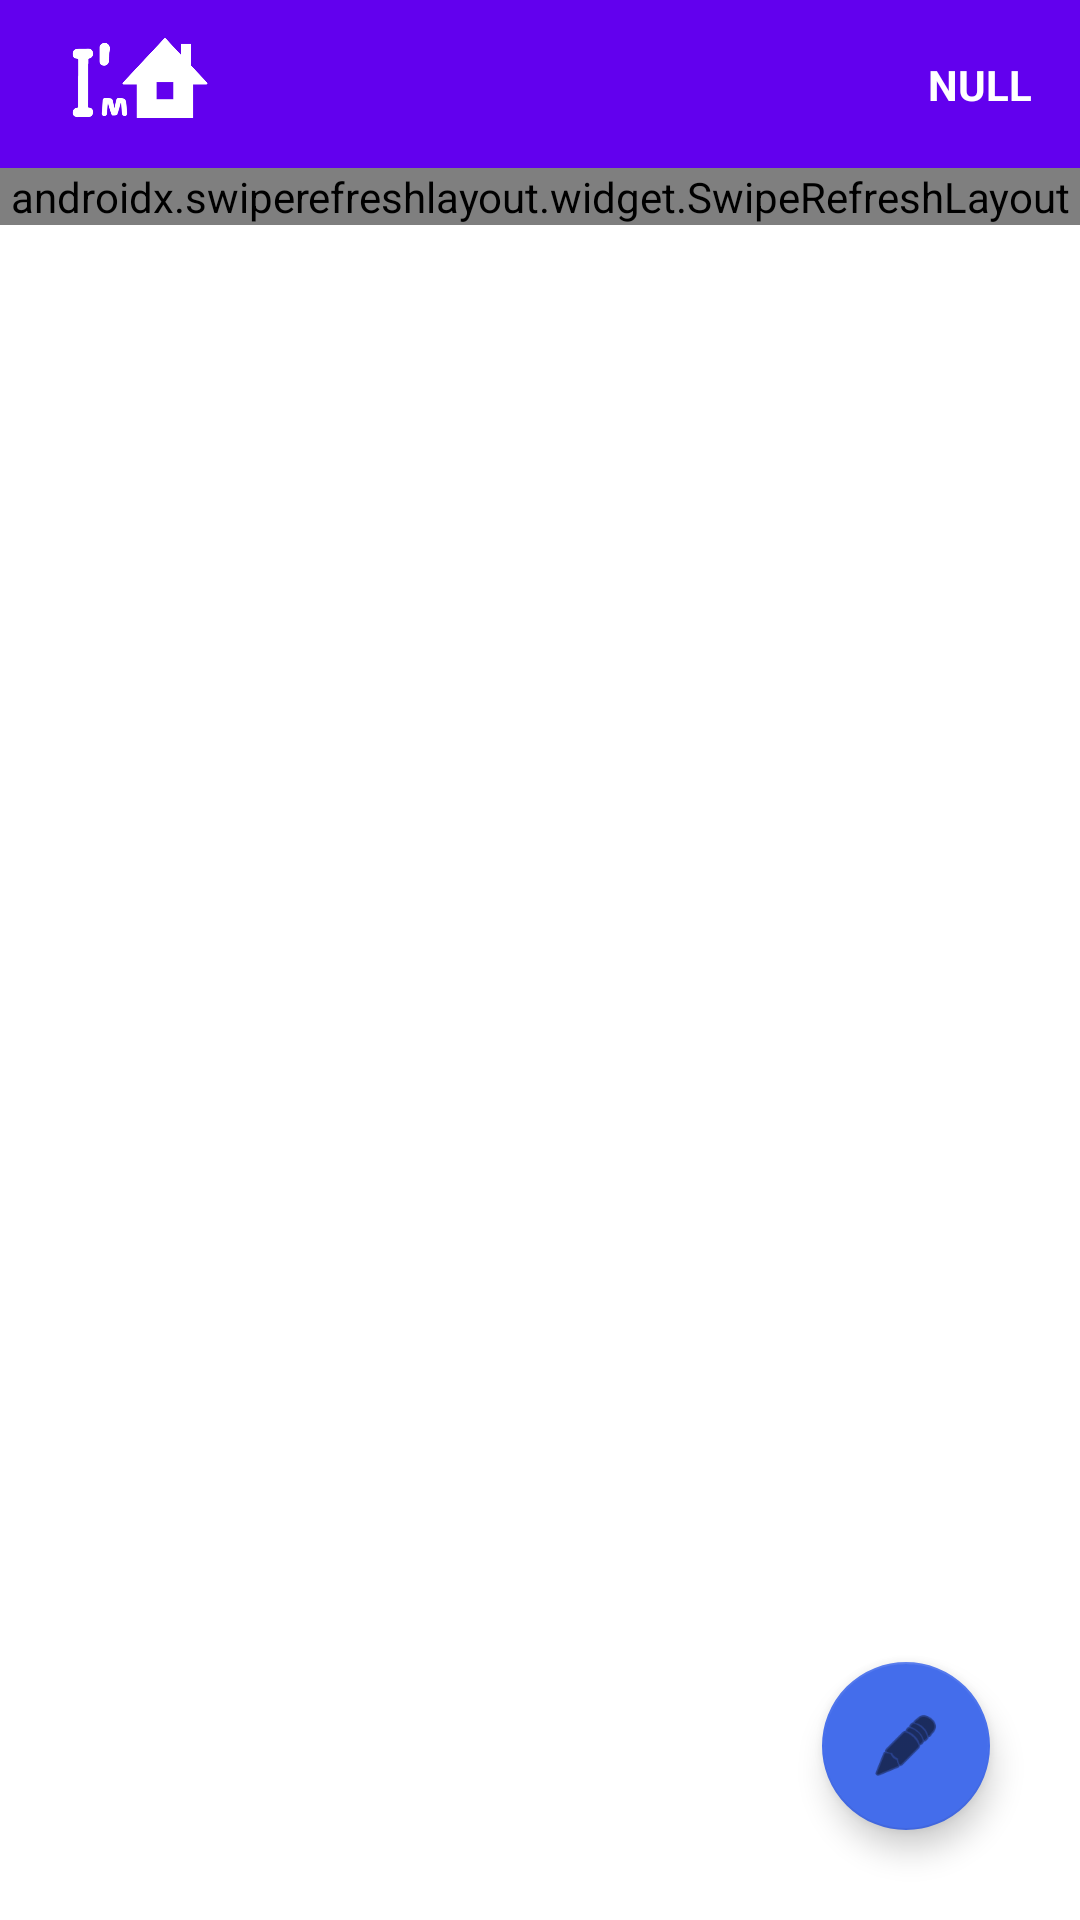

Point at icon controls on the screen. Image size 1080 × 1920, points as (x,y).
edit: (906,1746)
